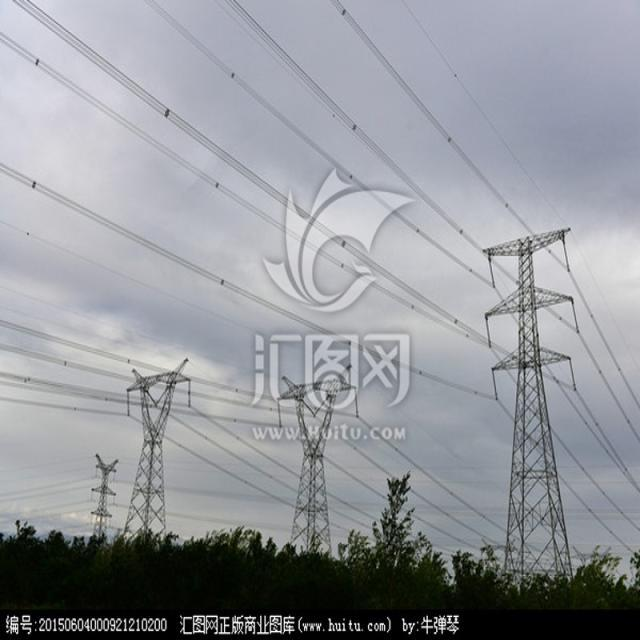non-critical vegetation: (478, 234, 592, 581), (100, 342, 190, 530), (283, 354, 340, 577)
